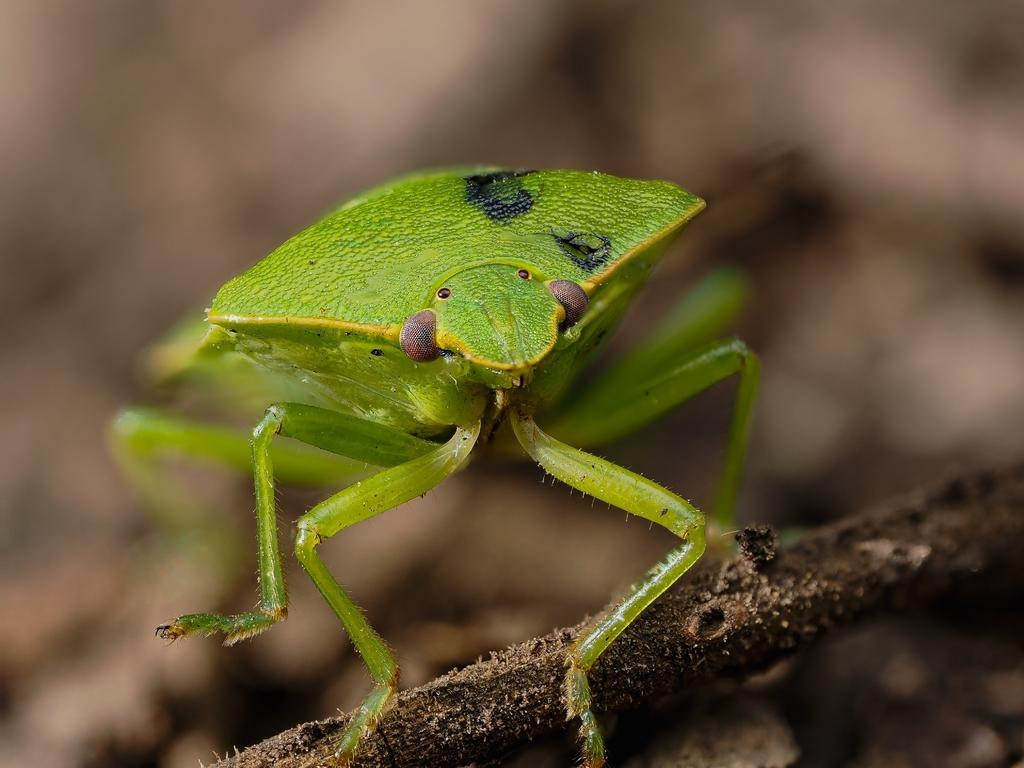stink_bugs: (45, 72, 881, 768)
